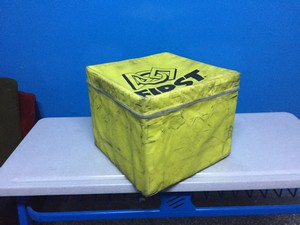cube: (86, 52, 238, 190)
